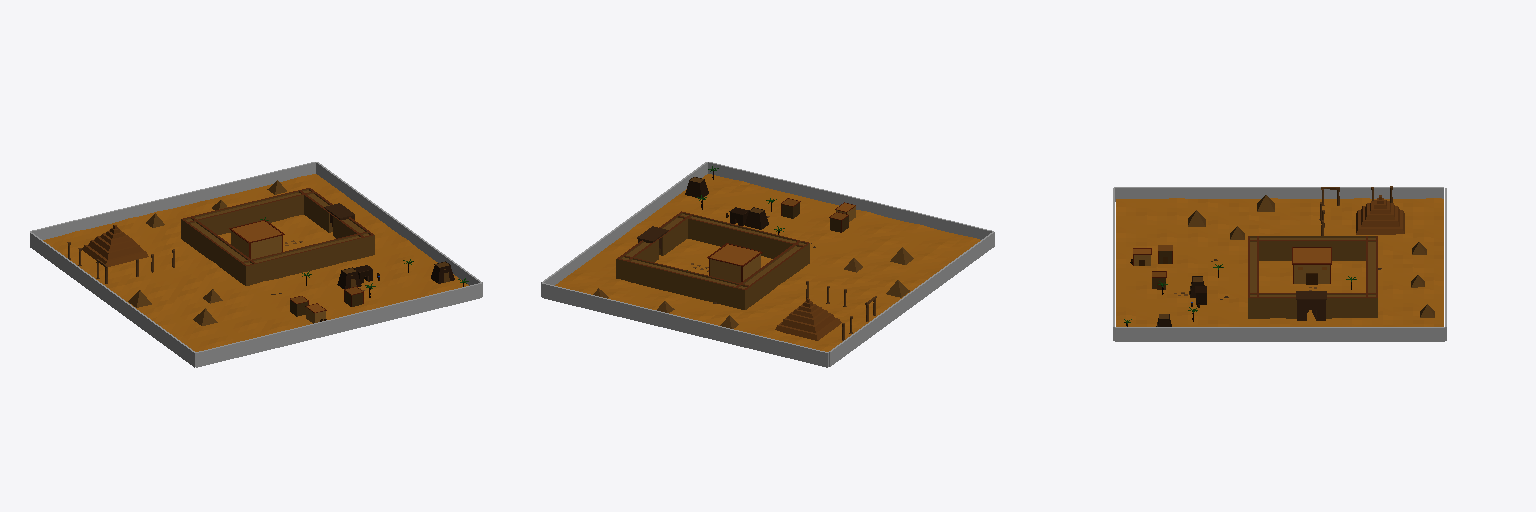
Rendered from Egypt_North.obj.
3 renders of one model, left to right at view 1: azimuth 30°, elevation 25°; view 2: azimuth 150°, elevation 25°; view 3: azimuth 270°, elevation 25°, orthographic.
Visible parts, largest first — view 1: Plane_Plane.001_Material.037, Cube_Cube_Material.003, Cube.005_Cube.057_Material, Cube.004_Cube.053_Material, Cube.003_Cube.052_Material, Cube.002_Cube.051_Material, Cube_Cube_Material.005, Cube.218_Cube.062_Material.028, Cube.218_Cube.062_Top.001; view 2: Plane_Plane.001_Material.037, Cube_Cube_Material.003, Cube.004_Cube.053_Material, Cube.005_Cube.057_Material, Cube.003_Cube.052_Material, Cube.002_Cube.051_Material, Cube_Cube_Material.005, Cube.218_Cube.062_Material.028, Cube.218_Cube.062_Top.001; view 3: Plane_Plane.001_Material.037, Cube_Cube_Material.003, Cube.002_Cube.051_Material, Cube.003_Cube.052_Material, Cube_Cube_Material.005, Cube.001_Cube.001_Material.006, Cube.218_Cube.062_Top.001, Cube.202_Cube.047_Material.027.
Boxes of the visible parts, <box> form: Plane_Plane.001_Material.037: <box>43,174,468,351</box>; Cube_Cube_Material.003: <box>181,189,374,285</box>; Cube.005_Cube.057_Material: <box>195,283,481,367</box>; Cube.004_Cube.053_Material: <box>30,162,315,239</box>; Cube.003_Cube.052_Material: <box>30,232,195,367</box>; Cube.002_Cube.051_Material: <box>316,162,482,296</box>; Cube_Cube_Material.005: <box>182,188,373,265</box>; Cube.218_Cube.062_Material.028: <box>231,231,281,259</box>; Cube.218_Cube.062_Top.001: <box>232,221,281,241</box>; Plane_Plane.001_Material.037: <box>555,174,980,351</box>; Cube_Cube_Material.003: <box>616,213,809,309</box>; Cube.004_Cube.053_Material: <box>542,283,828,367</box>; Cube.005_Cube.057_Material: <box>708,162,993,239</box>; Cube.003_Cube.052_Material: <box>829,232,994,366</box>; Cube.002_Cube.051_Material: <box>541,162,707,296</box>; Cube_Cube_Material.005: <box>617,211,808,289</box>; Cube.218_Cube.062_Material.028: <box>710,254,760,282</box>; Cube.218_Cube.062_Top.001: <box>710,244,759,264</box>; Plane_Plane.001_Material.037: <box>1116,198,1443,326</box>; Cube_Cube_Material.003: <box>1248,236,1377,318</box>; Cube.002_Cube.051_Material: <box>1115,327,1444,341</box>; Cube.003_Cube.052_Material: <box>1114,187,1443,201</box>; Cube_Cube_Material.005: <box>1248,236,1377,297</box>; Cube.001_Cube.001_Material.006: <box>1296,291,1326,320</box>; Cube.218_Cube.062_Top.001: <box>1293,248,1330,269</box>; Cube.202_Cube.047_Material.027: <box>1356,210,1404,234</box>.
Size of the model in its own units: 443 by 46.78 by 444.